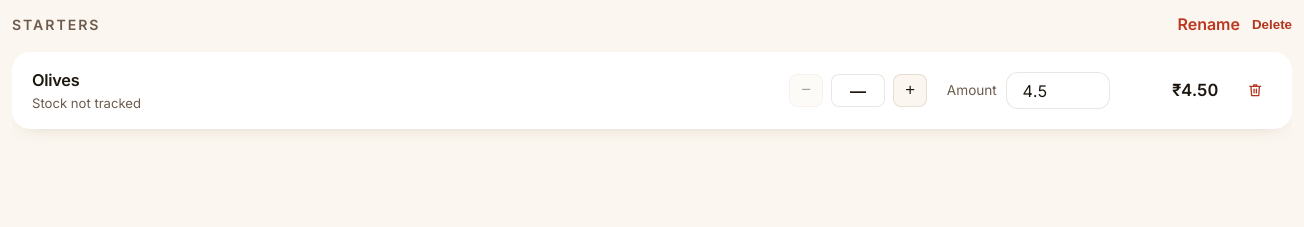
it: CategoryPanel renaming › sends nothing when the name is unchanged
Click the button with aria-label "Rename Starters" at [1209, 24], box x1=1177 y1=12 x2=1240 y2=36
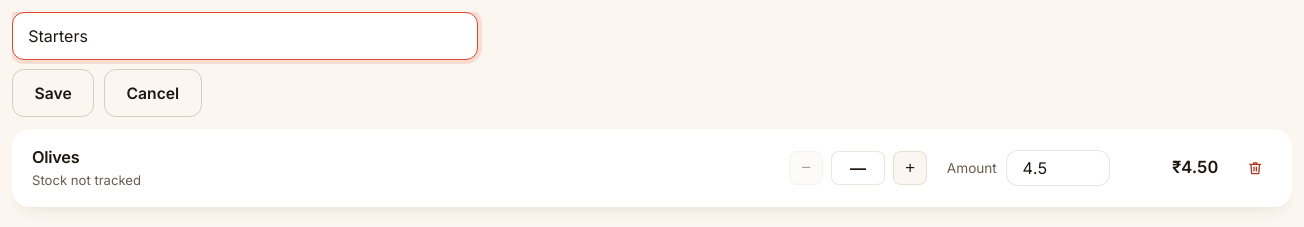
Click the button "Save" at [53, 93], box x1=12 y1=69 x2=94 y2=117
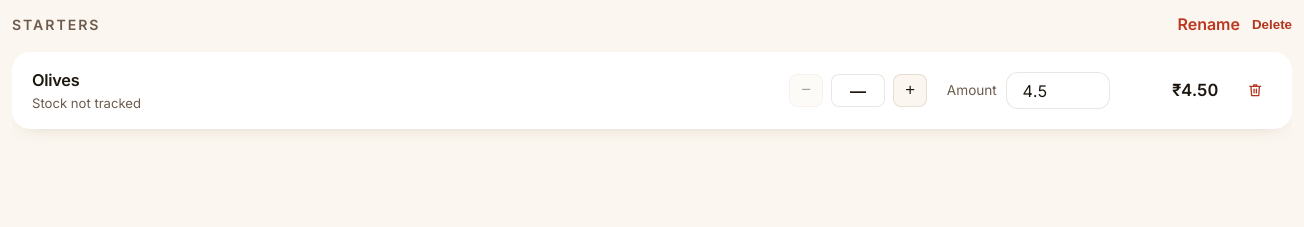
Expected: the heading "Starters" is shown, x1=12 y1=18 x2=100 y2=33
